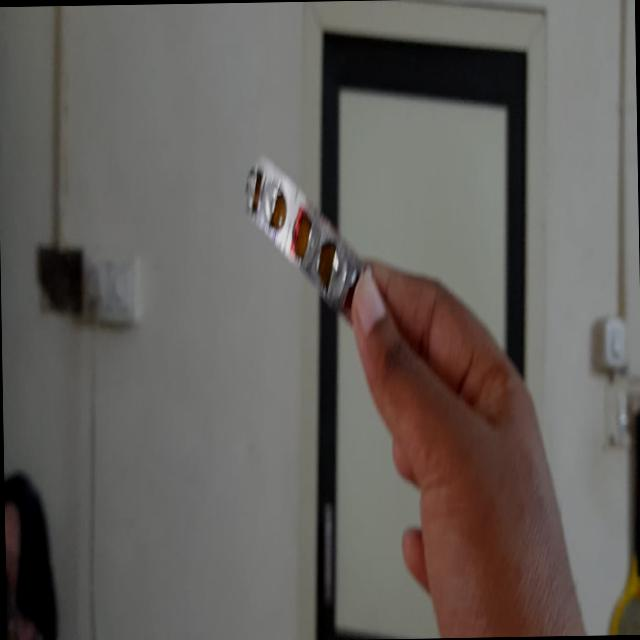Blister_Packs - Non Recyclable: (239, 140, 391, 374)
